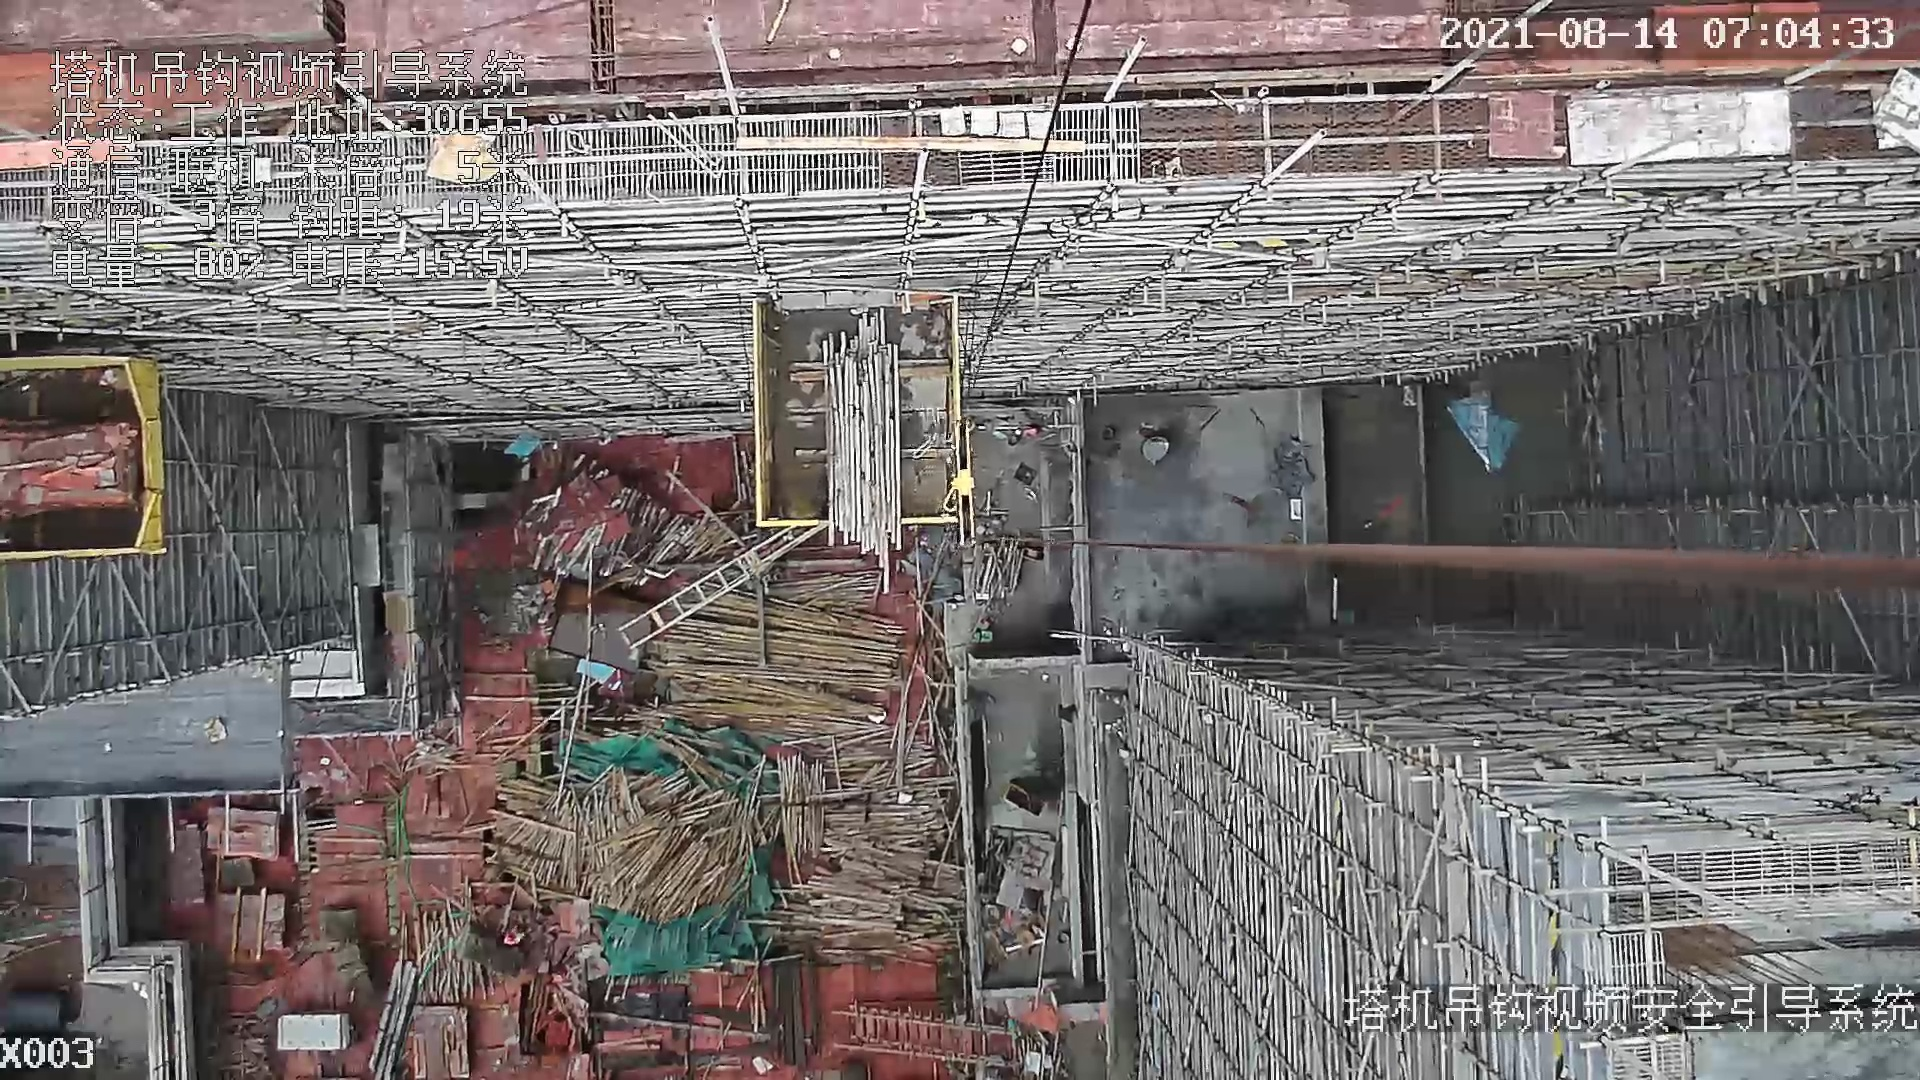hook: (942, 415, 997, 559)
